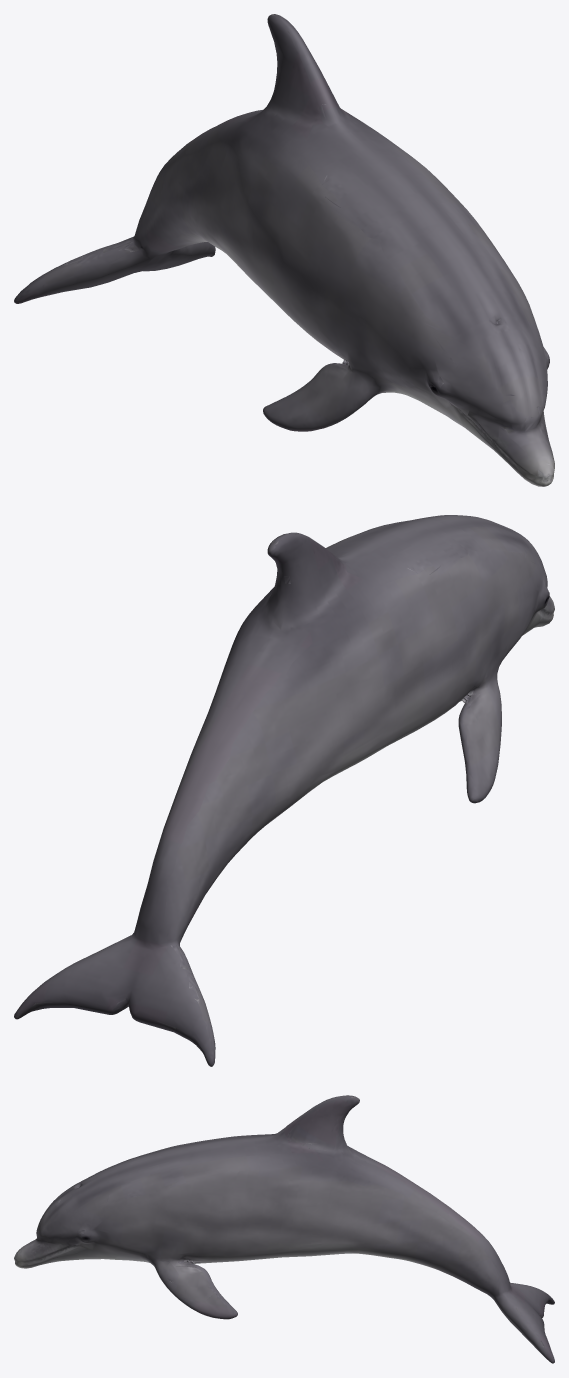
File: rescue-dolphin.glb
3 views of the same model, one above another, from view 1: azimuth 30°, elevation 25°; view 2: azimuth 150°, elevation 25°; view 3: azimuth 270°, elevation 25° (orthographic). The views are drawn at different scales.
Visible parts, largest first — view 1: Mesh_0; view 2: Mesh_0; view 3: Mesh_0.
Part boxes in pixels (left/top/right/bottom): Mesh_0: left=14, top=14, right=554, bottom=486; Mesh_0: left=14, top=515, right=554, bottom=1066; Mesh_0: left=14, top=1095, right=554, bottom=1363.
Bounding box in the file's own units: 0.5397 × 0.9222 × 1.9.
Materials: 1 (1 with a texture image).
